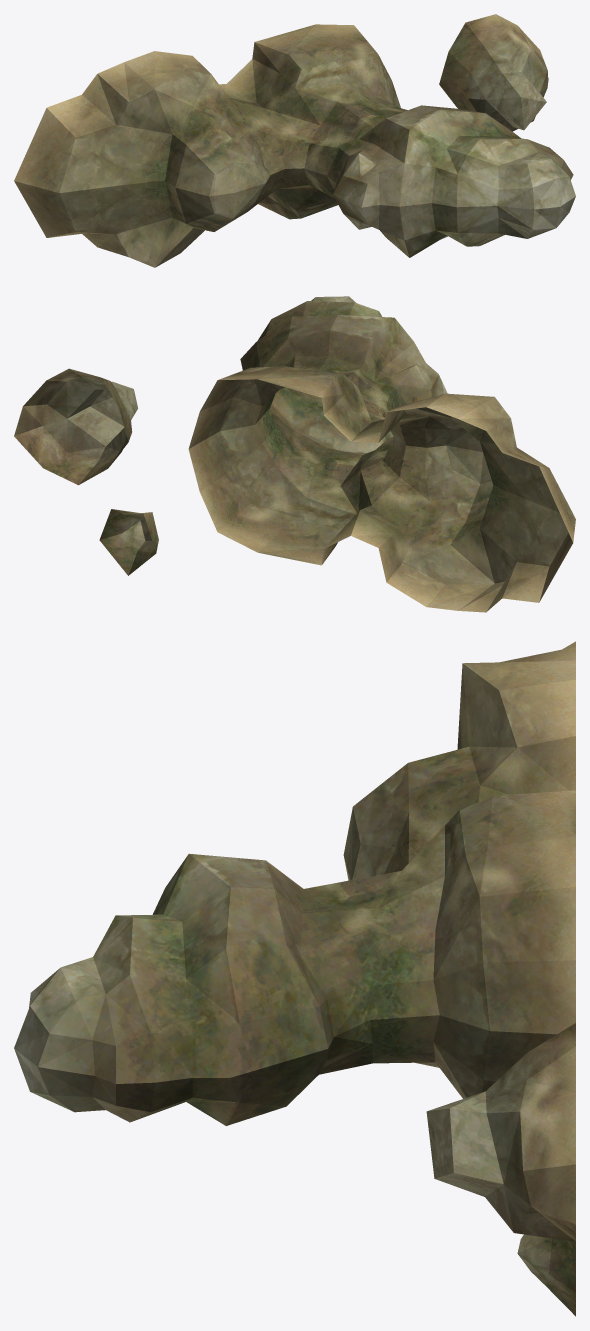
The model's file is juqing_fuben_395_jiaoshi04.obj.
The picture shows the model from 3 angles, top to bottom: view 1: azimuth 30°, elevation 25°; view 2: azimuth 150°, elevation 25°; view 3: azimuth 270°, elevation 25°; orthographic projection. The views are drawn at different scales.
Parts seen in each view (by area): view 1: juqing_fuben_395_jiaoshi04; view 2: juqing_fuben_395_jiaoshi04; view 3: juqing_fuben_395_jiaoshi04.
Boxes of the visible parts, x1,y1,x2,y2 form: juqing_fuben_395_jiaoshi04: [14, 14, 575, 267]; juqing_fuben_395_jiaoshi04: [14, 296, 575, 612]; juqing_fuben_395_jiaoshi04: [14, 641, 575, 1316].
Bounding box in the file's own units: 1148 × 474 × 607.
Materials: 1 (1 with a texture image).
